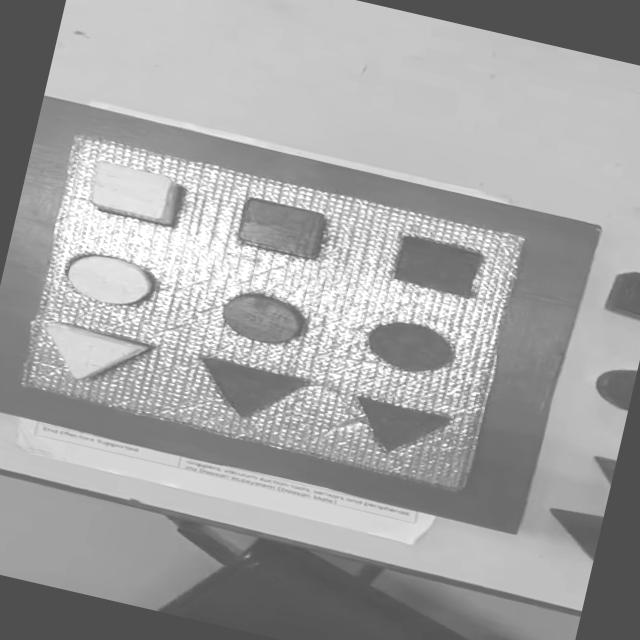bcircle: (590, 360, 636, 411)
bcube: (602, 264, 640, 323)
mtcircle: (359, 312, 464, 382)
mtcube: (387, 231, 487, 301)
mttriangle: (185, 352, 312, 432), (342, 392, 456, 466)
rcircle: (223, 293, 303, 343)
rcube: (232, 194, 330, 262), (588, 454, 616, 483)
rtriangle: (539, 504, 603, 564)
wb: (11, 131, 526, 493)
ycircle: (58, 246, 160, 314)
ycube: (82, 158, 182, 226)
ytriangle: (30, 316, 154, 396)
